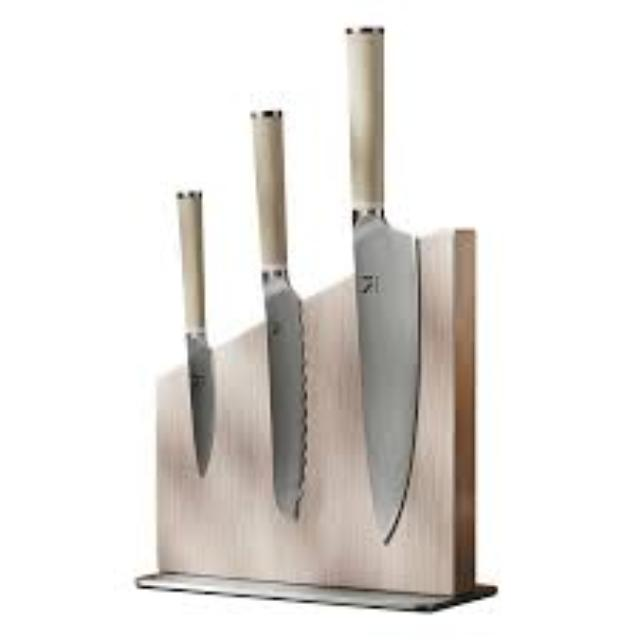knife: (342, 23, 421, 543), (248, 106, 306, 520), (174, 188, 212, 474)
